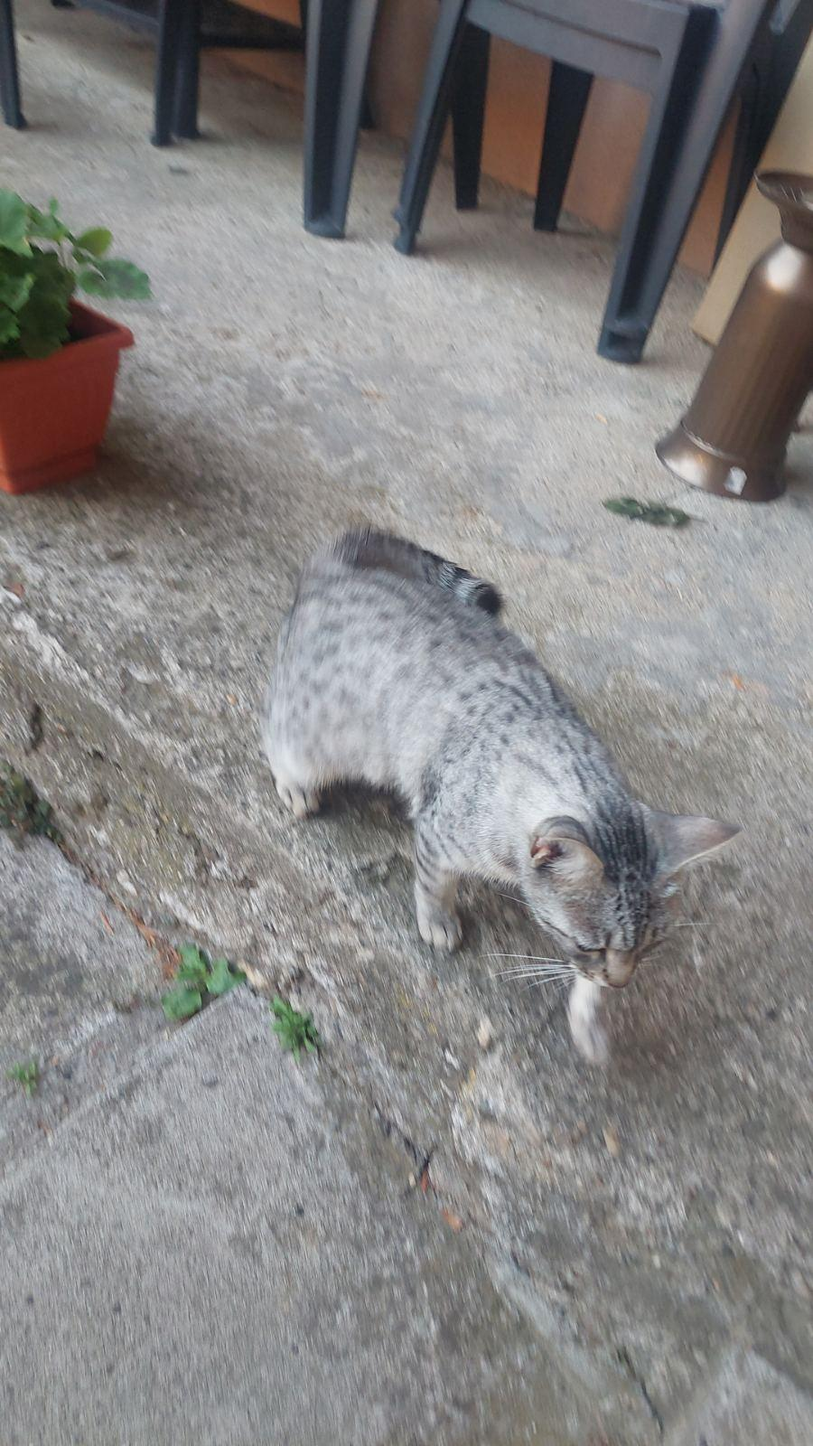macka: (261, 526, 743, 1068)
